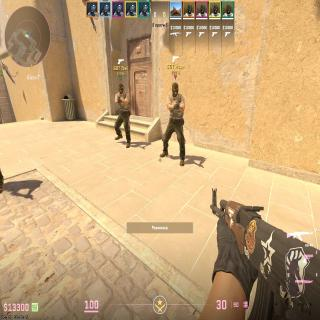T-Body: (166, 82, 186, 166), (115, 83, 131, 146)
T-Head: (118, 82, 124, 93)
